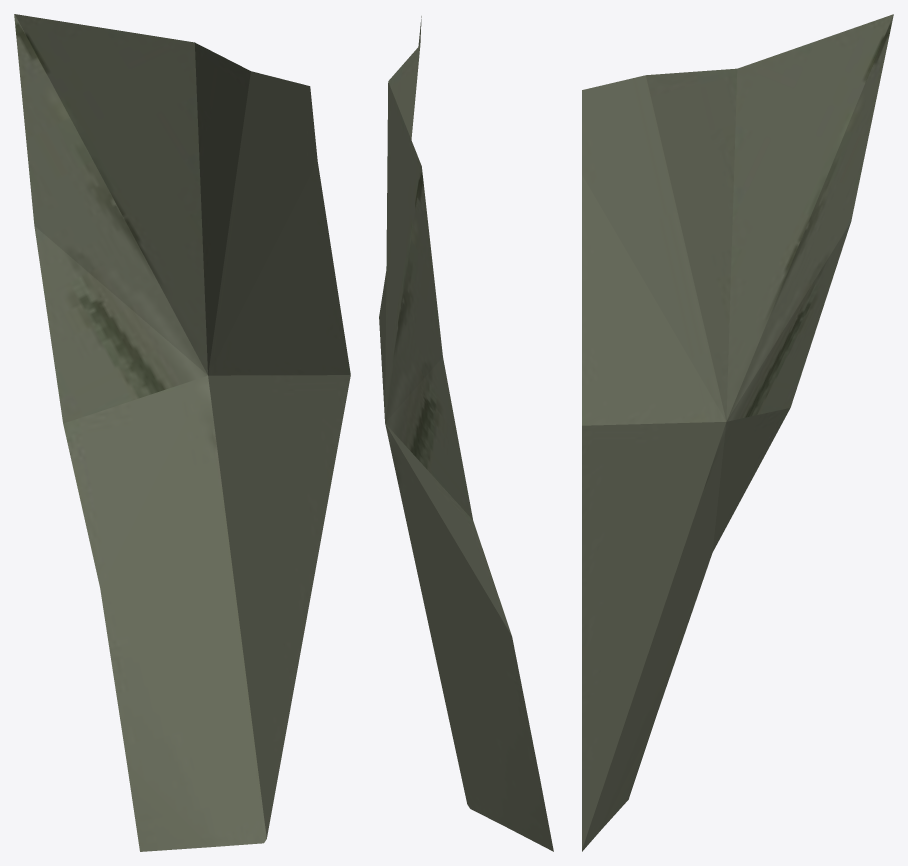
3 renders of one model, left to right at view 1: azimuth 30°, elevation 25°; view 2: azimuth 150°, elevation 25°; view 3: azimuth 270°, elevation 25°, orthographic. The views are drawn at different scales.
Size of the model in its own units: 0.781 by 2.95 by 1.06.
Materials: 1 (1 with a texture image).
